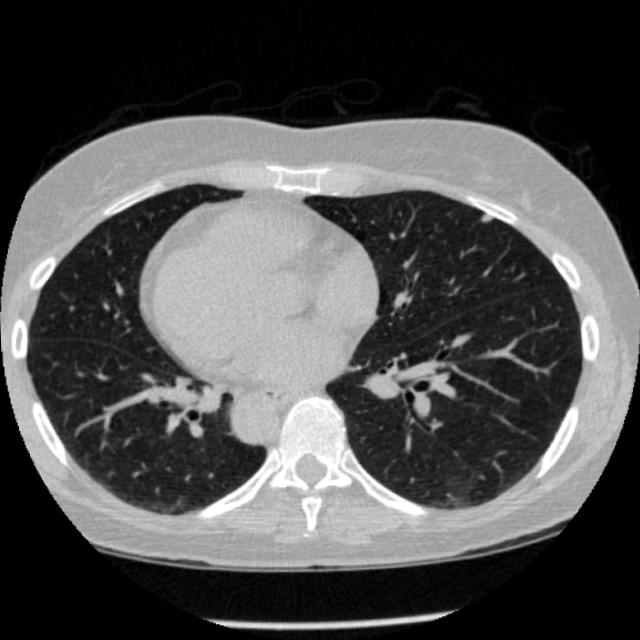nodule: (474, 203, 500, 230)
